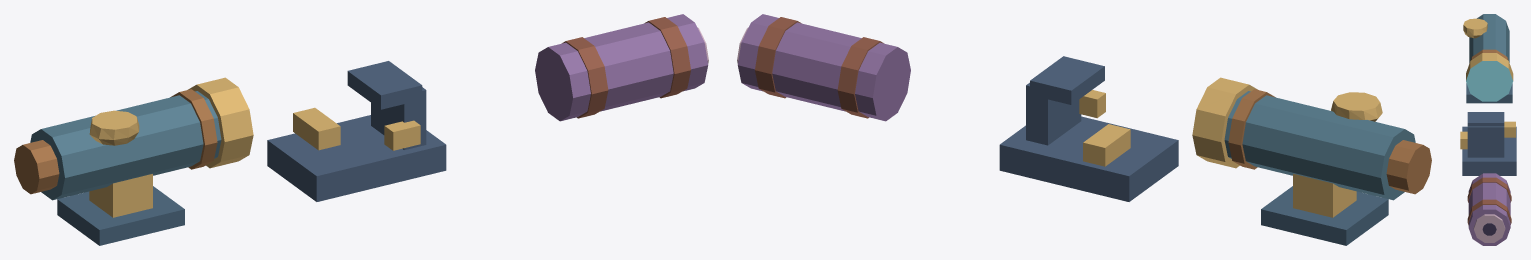
Rendered from sne-survey-model.obj.
The picture shows the model from 3 angles, left to right: view 1: azimuth 30°, elevation 25°; view 2: azimuth 150°, elevation 25°; view 3: azimuth 270°, elevation 25°; orthographic projection. The views are drawn at different scales.
Visible parts, largest first — view 1: SurveyFittings; view 2: SurveyFittings; view 3: SurveyFittings.
Part boxes in pixels (x1=…): SurveyFittings: x1=14, y1=14, x2=708, y2=245; SurveyFittings: x1=737, y1=14, x2=1431, y2=245; SurveyFittings: x1=1460, y1=14, x2=1516, y2=245.
Size of the model in its own units: 4.85 by 0.83 by 0.645.
